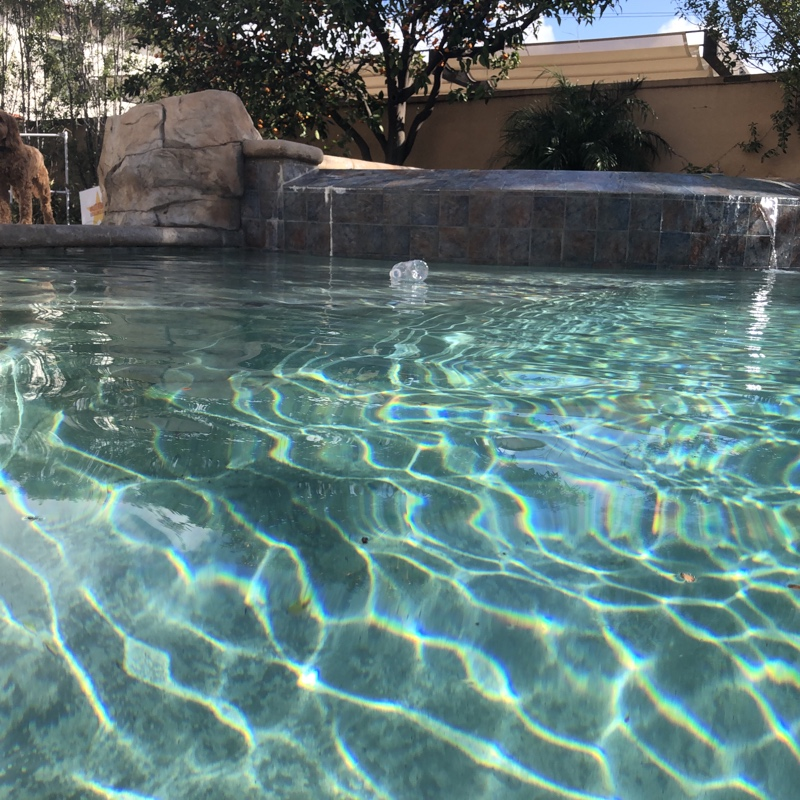Plastic Bottle: (384, 257, 431, 284)
